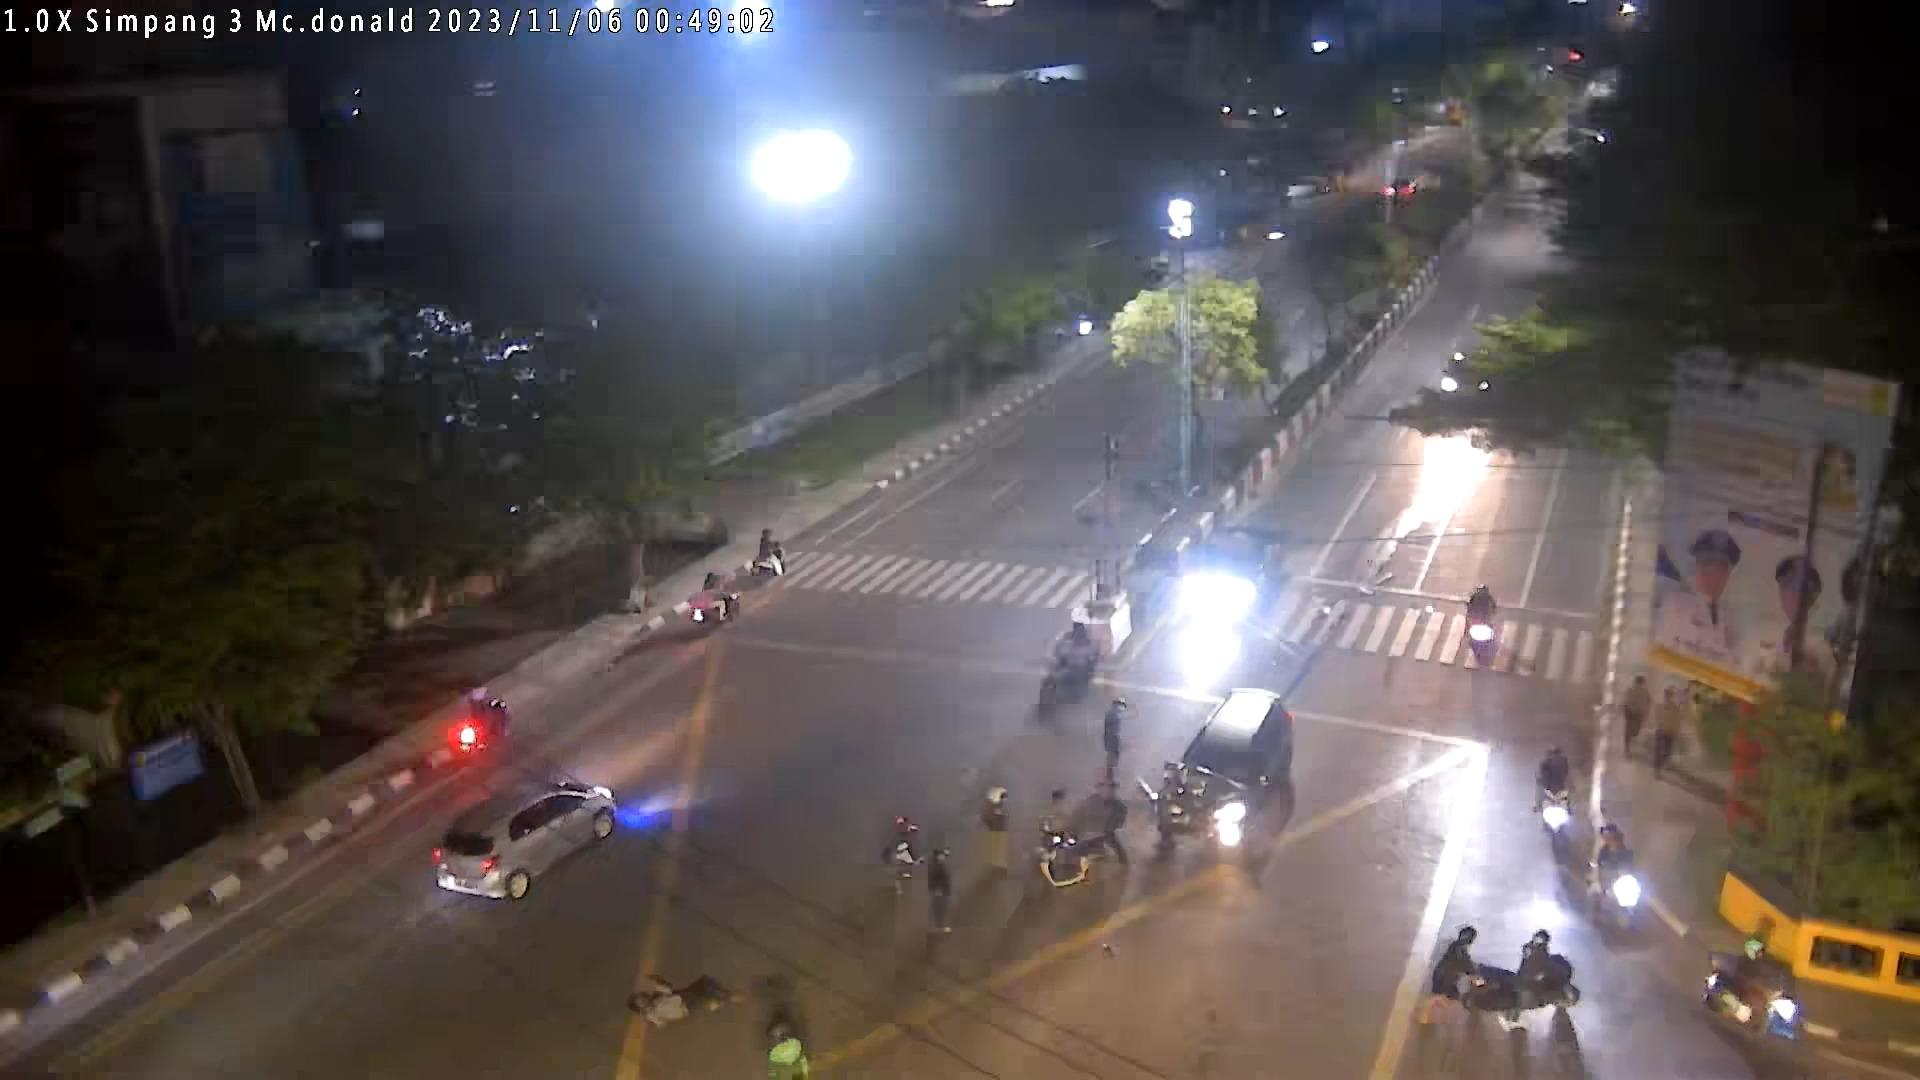accident: (628, 973, 744, 1029)
